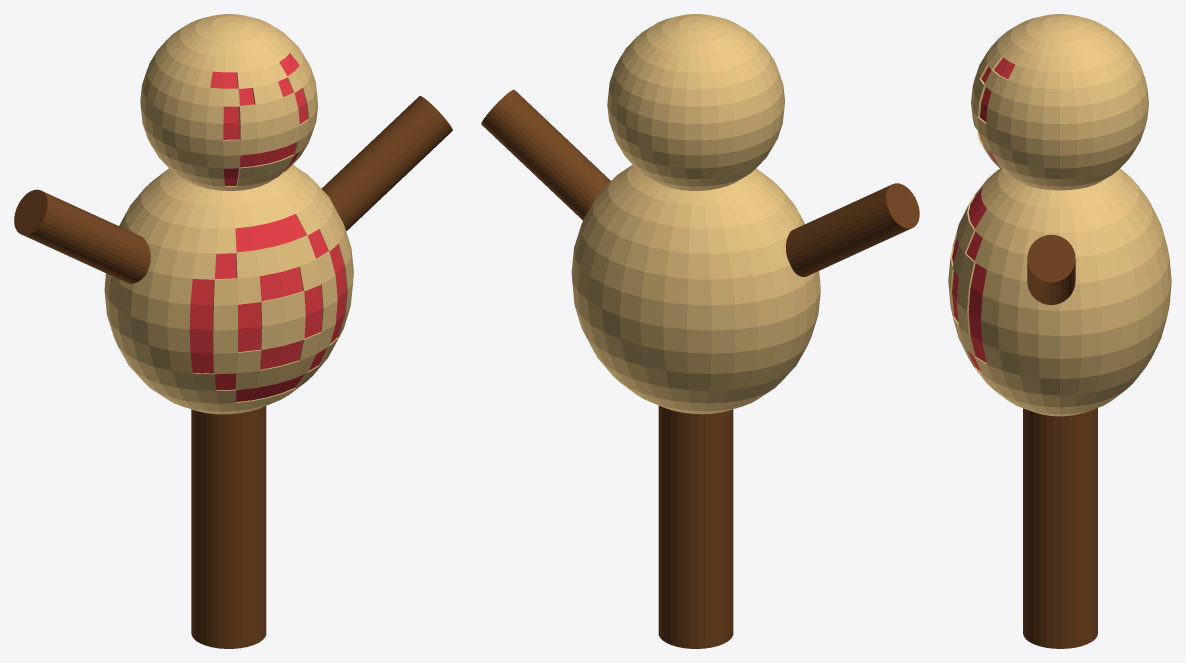
Rendered from TrainingDummy.fbx.
The picture shows the model from 3 angles, left to right: view 1: azimuth 30°, elevation 25°; view 2: azimuth 150°, elevation 25°; view 3: azimuth 270°, elevation 25°; orthographic projection.
Visible parts, largest first — view 1: Sphere, Sphere.001, Cylinder, Cylinder.001; view 2: Sphere, Sphere.001, Cylinder, Cylinder.001; view 3: Sphere, Sphere.001, Cylinder, Cylinder.001.
Part boxes in pixels (bbox=[...]): Sphere: bbox=[104, 165, 353, 414]; Sphere.001: bbox=[140, 14, 317, 190]; Cylinder: bbox=[191, 406, 266, 648]; Cylinder.001: bbox=[14, 96, 452, 283]; Sphere: bbox=[571, 164, 820, 414]; Sphere.001: bbox=[607, 14, 784, 190]; Cylinder: bbox=[658, 405, 733, 648]; Cylinder.001: bbox=[481, 89, 919, 276]; Sphere: bbox=[948, 169, 1171, 416]; Sphere.001: bbox=[971, 14, 1148, 190]; Cylinder: bbox=[1023, 408, 1097, 648]; Cylinder.001: bbox=[1027, 234, 1075, 305].
Bounding box in the file's own units: 245 × 111 × 334.
